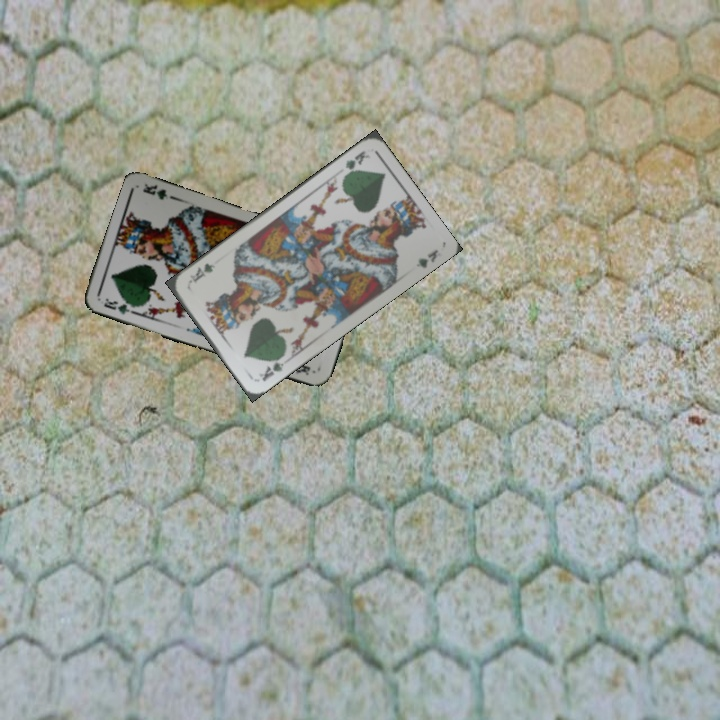GK: (340, 147, 373, 179), (254, 351, 286, 384), (99, 294, 139, 317)
